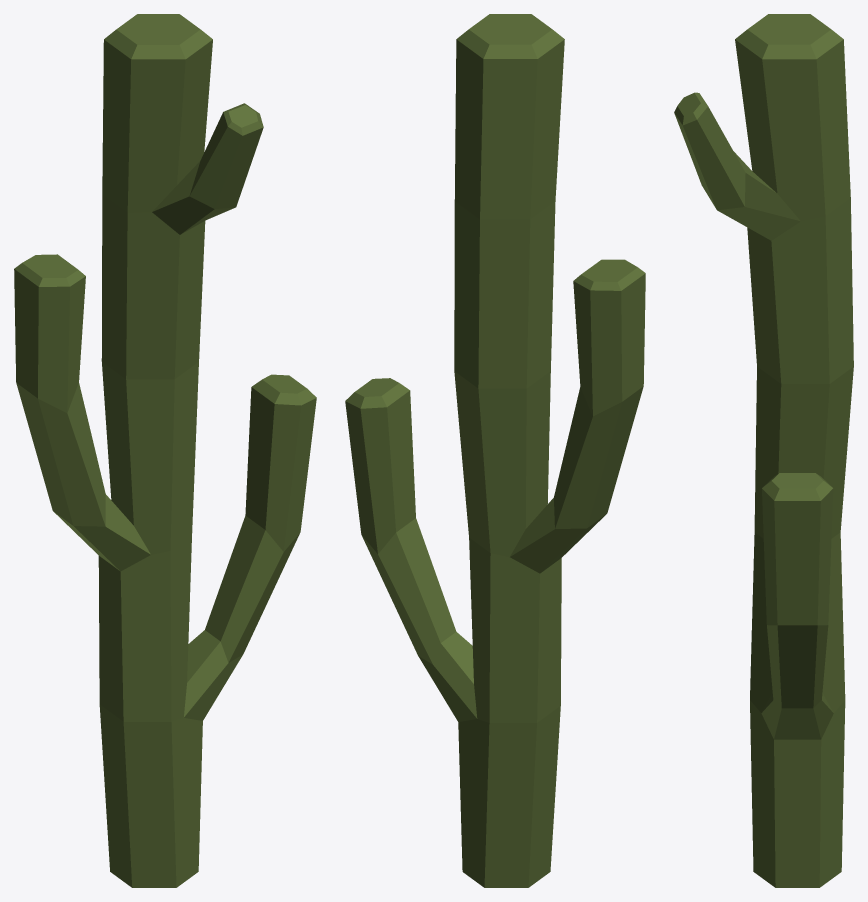
Rendered from SM_Envr_Nature_Plant_Desert_01.fbx.
The picture shows the model from 3 angles, left to right: view 1: azimuth 30°, elevation 25°; view 2: azimuth 150°, elevation 25°; view 3: azimuth 270°, elevation 25°; orthographic projection.
Visible parts, largest first — view 1: SM_Envr_Nature_Plant_Desert_01; view 2: SM_Envr_Nature_Plant_Desert_01; view 3: SM_Envr_Nature_Plant_Desert_01.
Part boxes in pixels (x1=…): SM_Envr_Nature_Plant_Desert_01: x1=14, y1=14, x2=316, y2=887; SM_Envr_Nature_Plant_Desert_01: x1=345, y1=14, x2=645, y2=887; SM_Envr_Nature_Plant_Desert_01: x1=674, y1=14, x2=853, y2=887.
Size of the model in its own units: 138 by 400 by 77.4.
